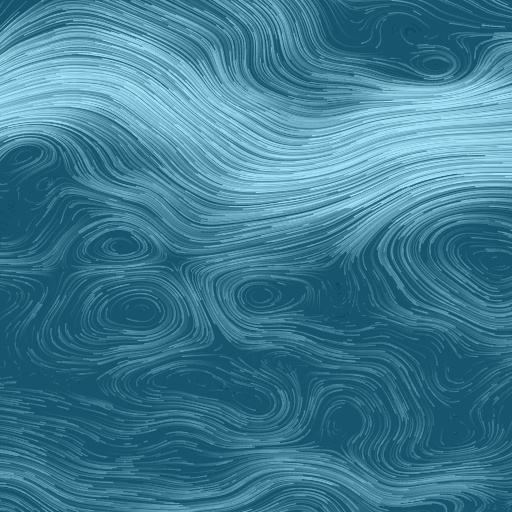eddy: (136, 355, 289, 429), (76, 270, 190, 350), (223, 270, 315, 325), (82, 221, 155, 267), (409, 48, 459, 81), (471, 243, 510, 279), (3, 143, 47, 170)
